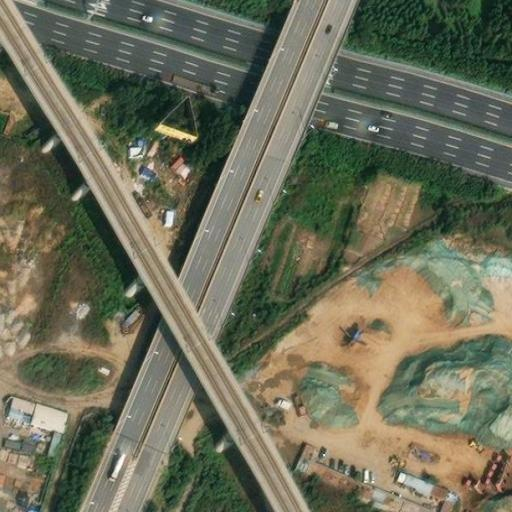building: (298, 440, 380, 495), (374, 461, 457, 512), (4, 388, 70, 451), (0, 462, 44, 503), (0, 432, 41, 468), (165, 147, 199, 180), (134, 161, 159, 185), (125, 138, 144, 157)
